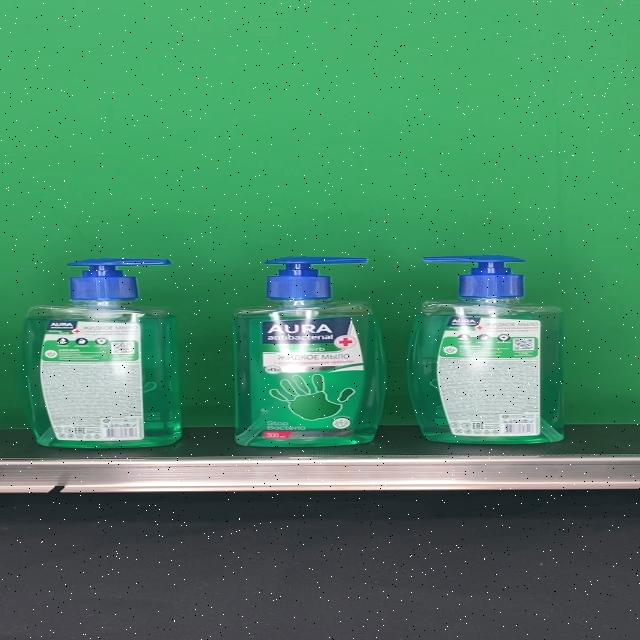Bottle: (22, 258, 182, 448), (406, 256, 566, 444), (231, 256, 387, 447)
Cap: (263, 256, 367, 299), (421, 256, 526, 298), (66, 258, 170, 300)
